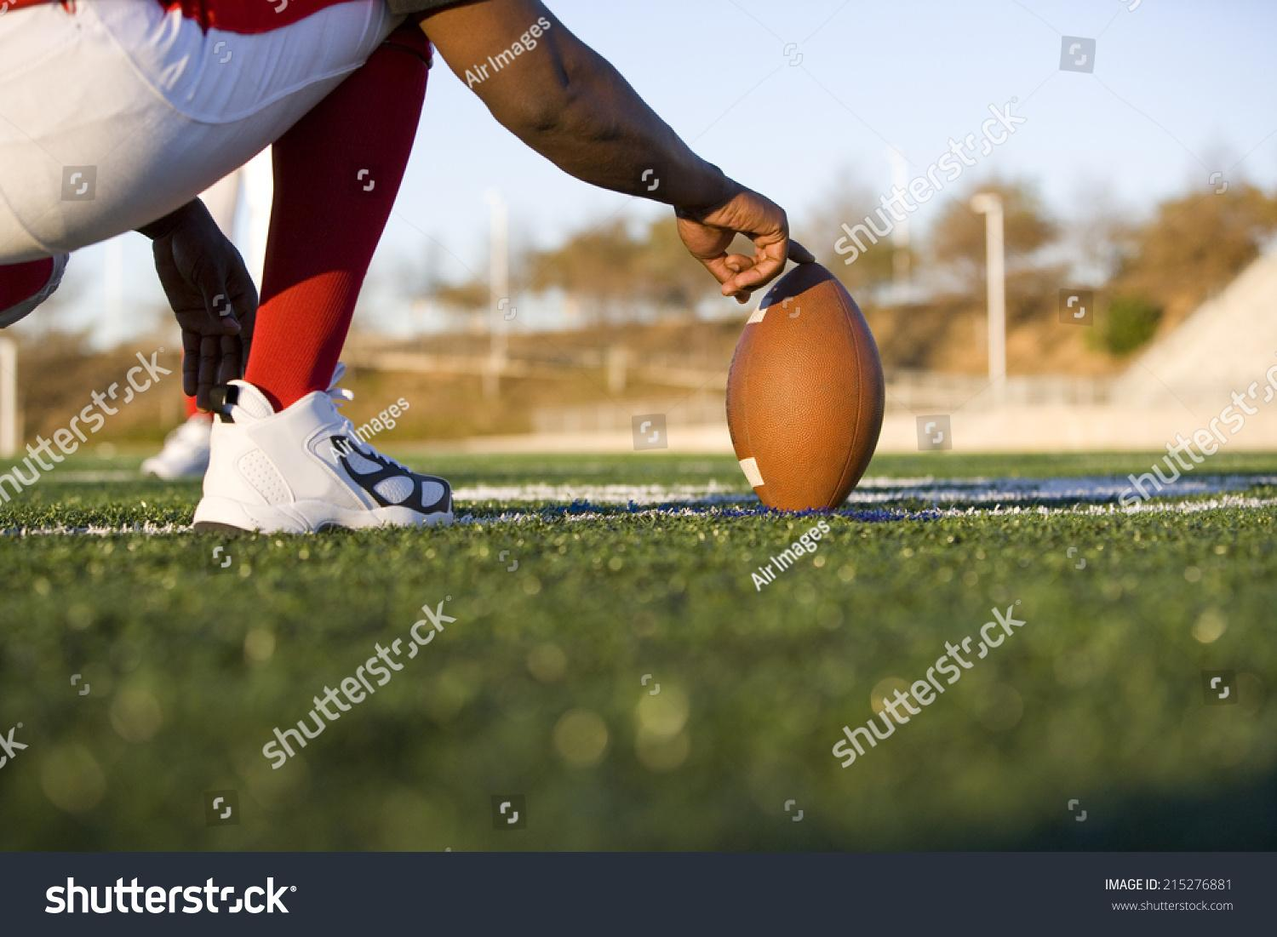americanFootball: (725, 258, 887, 523)
